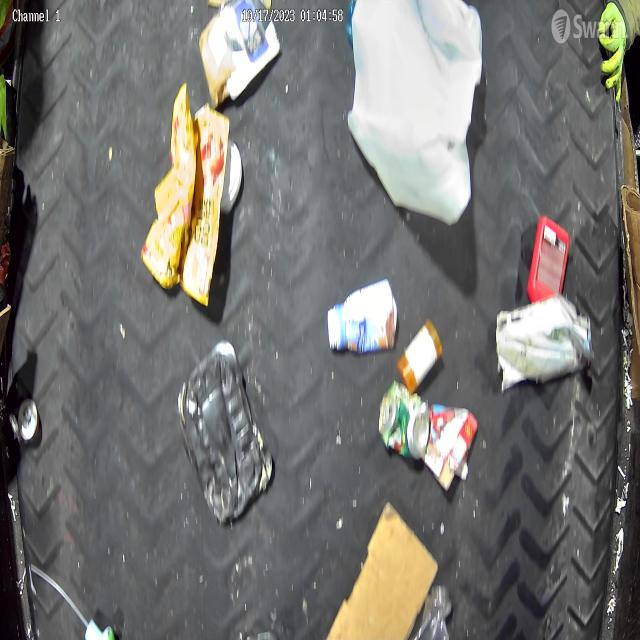can: (378, 383, 430, 460), (10, 397, 40, 445)
milk_jug: (348, 2, 482, 226)
